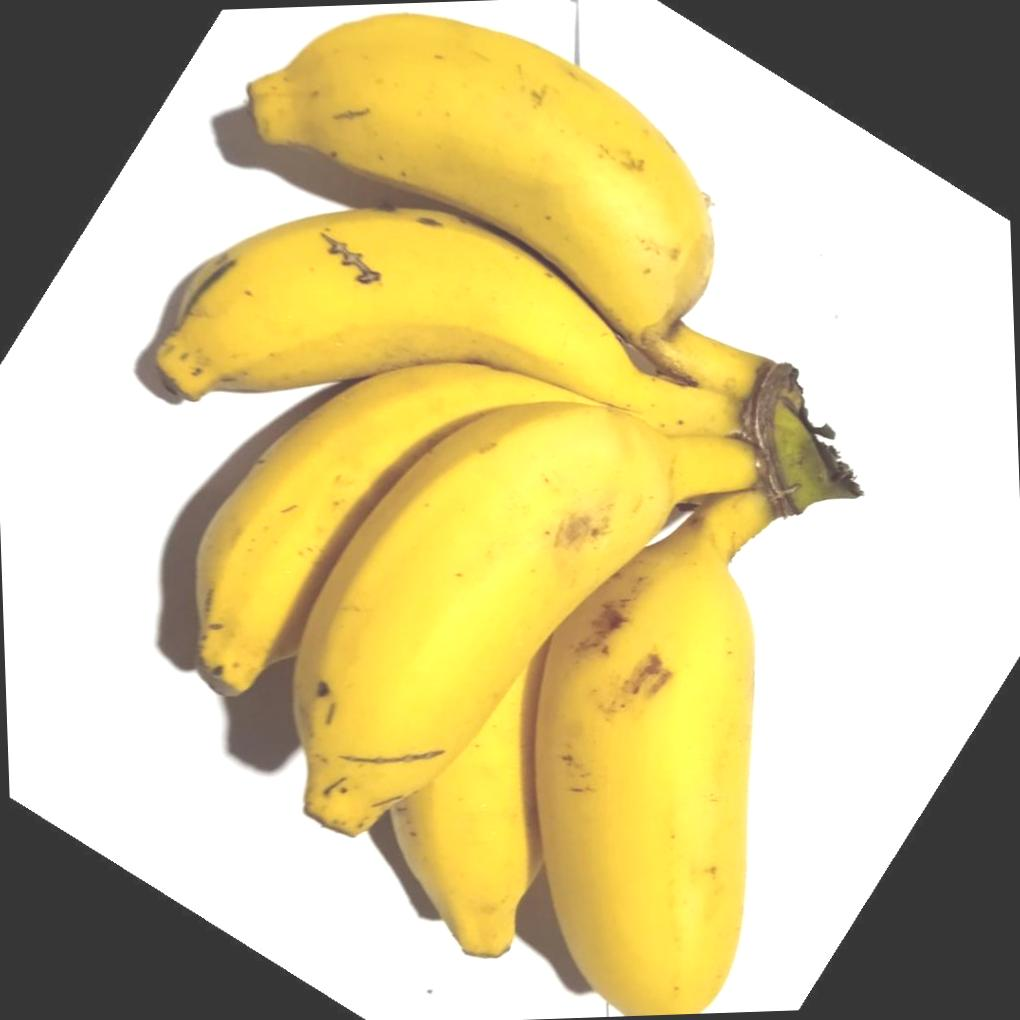Banana Ripe: (175, 14, 836, 1020), (117, 115, 776, 566), (306, 367, 691, 955), (530, 503, 810, 1019)
